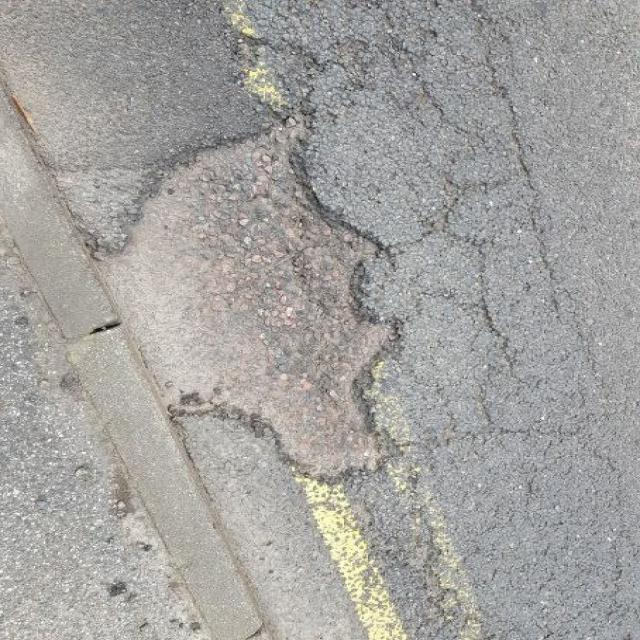pothole: (89, 98, 416, 494)
